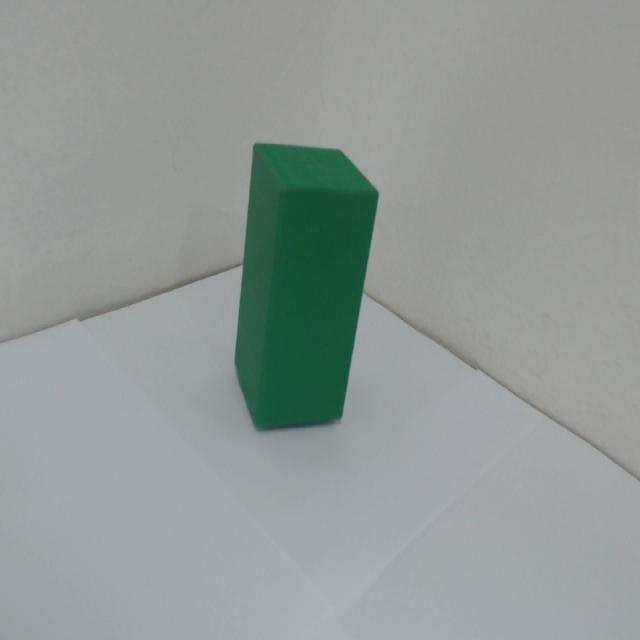cube: (215, 82, 416, 524)
